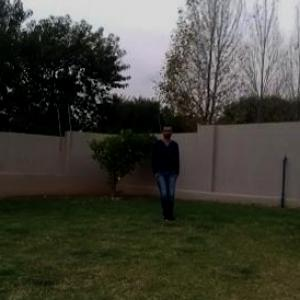follow: (153, 121, 180, 224)
